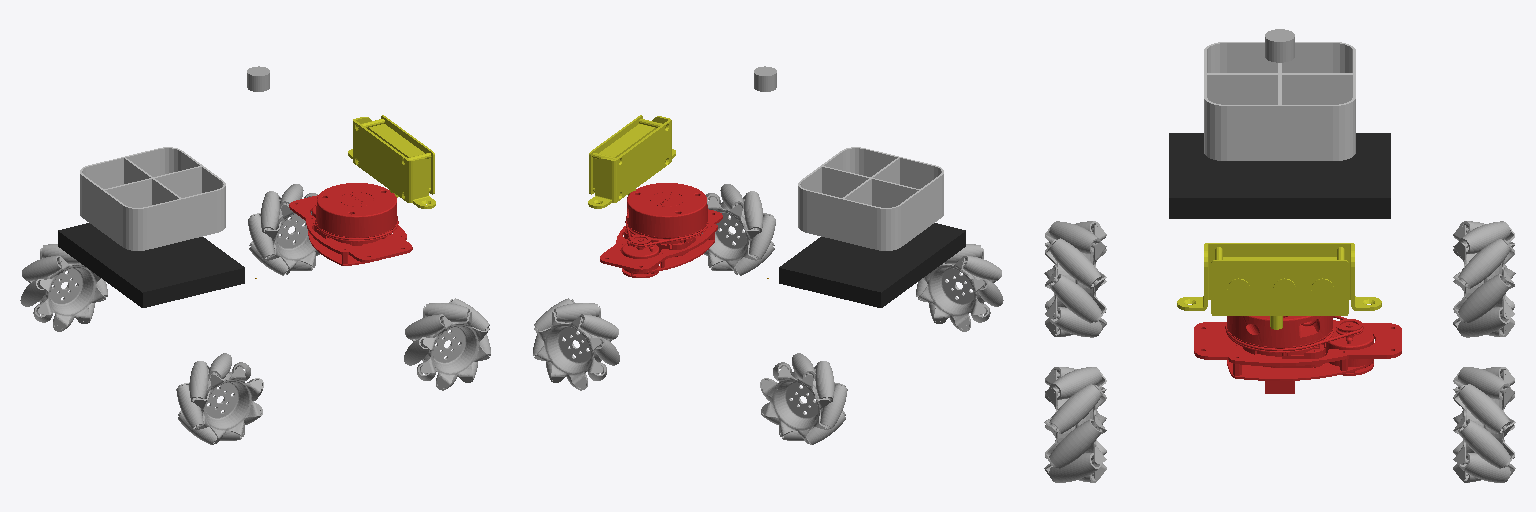
--- Facts derived from the render (not from the file) ---
Views: 3 orthographic renders of the robot side by side, from view 1: azimuth 30°, elevation 25°; view 2: azimuth 150°, elevation 25°; view 3: azimuth 270°, elevation 25°.
Robot: oryxbot_base — 48 links, 47 joints (5 revolute, 42 fixed); root link base_footprint; default pose: all joints at 0.
Visible links, largest first — view 1: save_box_Link, control_panel_Link, laser_radar_Link, depth_camera_Link, wheel_2_Link, wheel_3_Link, wheel_4_Link, wheel_1_Link, roller_1_4_Link, roller_4_3_Link, roller_2_3_Link, roller_3_4_Link (+4 smaller); view 2: save_box_Link, control_panel_Link, laser_radar_Link, depth_camera_Link, wheel_1_Link, wheel_4_Link, wheel_3_Link, wheel_2_Link, roller_2_4_Link, roller_3_3_Link, roller_1_3_Link, roller_4_4_Link (+4 smaller); view 3: save_box_Link, control_panel_Link, depth_camera_Link, laser_radar_Link, wheel_1_Link, wheel_2_Link, wheel_3_Link, wheel_4_Link, roller_3_1_Link, roller_4_1_Link, roller_2_1_Link, roller_1_1_Link (+13 smaller).
Link boxes in pixels (x1,y1,x2,y2): save_box_Link: [80, 147, 225, 250]; control_panel_Link: [58, 223, 244, 307]; laser_radar_Link: [289, 183, 412, 265]; depth_camera_Link: [348, 115, 435, 208]; wheel_2_Link: [405, 299, 489, 388]; wheel_3_Link: [178, 365, 262, 443]; wheel_4_Link: [22, 248, 105, 329]; wheel_1_Link: [249, 191, 315, 274]; roller_1_4_Link: [248, 215, 274, 259]; roller_4_3_Link: [22, 256, 61, 280]; roller_2_3_Link: [405, 314, 443, 339]; roller_3_4_Link: [176, 385, 203, 428]; save_box_Link: [798, 147, 943, 250]; control_panel_Link: [779, 223, 965, 307]; laser_radar_Link: [600, 183, 722, 277]; depth_camera_Link: [588, 115, 675, 208]; wheel_1_Link: [534, 299, 618, 388]; wheel_4_Link: [761, 365, 845, 443]; wheel_3_Link: [918, 248, 1001, 329]; wheel_2_Link: [702, 191, 774, 274]; roller_2_4_Link: [749, 215, 775, 259]; roller_3_3_Link: [962, 256, 1001, 280]; roller_1_3_Link: [580, 314, 618, 339]; roller_4_4_Link: [820, 385, 847, 428]; save_box_Link: [1204, 42, 1355, 160]; control_panel_Link: [1169, 133, 1390, 218]; depth_camera_Link: [1177, 243, 1381, 329]; laser_radar_Link: [1194, 316, 1401, 393]; wheel_1_Link: [1453, 370, 1515, 479]; wheel_2_Link: [1044, 370, 1106, 479]; wheel_3_Link: [1044, 224, 1106, 334]; wheel_4_Link: [1453, 224, 1515, 334]; roller_3_1_Link: [1049, 238, 1101, 288]; roller_4_1_Link: [1458, 238, 1510, 288]; roller_2_1_Link: [1049, 384, 1101, 433]; roller_1_1_Link: [1458, 384, 1510, 433].
Size in the robot's own frame: 0.3075 by 0.3088 by 0.2683 metres.
Meshes: 46 distinct files referenced, 40 mesh visuals loaded (40 binary STL); not drawn: 6 (reference not matched to a file when rendering).

URDF robot description (oryxbot_base):
<?xml version="1.0"?>
<robot xmlns:sensor="http://playerstage.sourceforge.net/gazebo/xmlschema/#sensor" xmlns:controller="http://playerstage.sourceforge.net/gazebo/xmlschema/#controller" xmlns:interface="http://playerstage.sourceforge.net/gazebo/xmlschema/#interface" xmlns:xacro="http://ros.org/wiki/xacro" name="oryxbot_base">
  <link name="base_footprint">
    <visual>
      <geometry>
        <box size="0.001 0.001 0.001"/>
      </geometry>
      <origin rpy="0 0 0" xyz="0 0 0.1"/>
    </visual>
    <inertial>
      <mass value="0.0001"/>
      <inertia ixx="1.0E-10" ixy="0.0" ixz="0.0" iyy="1.0E-10" iyz="0.0" izz="1.0E-10"/>
    </inertial>
  </link>
  <joint name="base_footprint_joint" type="fixed">
    <origin xyz="0 0 0.1"/>
    <parent link="base_footprint"/>
    <child link="base_link"/>
  </joint>
  <link name="base_link">
    <inertial>
      <origin xyz="-0.00764631169340118 -0.00117969395064395 -0.00183050219448137" rpy="0 0 0"/>
      <mass value="2.02553831087985"/>
      <inertia ixx="0.0136360660737575" ixy="-6.20950267617477E-05" ixz="0.000357631312376283" iyy="0.0207282662502369" iyz="0.000100277729999663" izz="0.0259054283159533"/>
    </inertial>
    <visual>
      <origin xyz="0 0 0" rpy="0 0 0"/>
      <geometry>
        <mesh filename="package://oryxbot_description/meshes/base/base_link.STL"/>
      </geometry>
      <material name="">
        <color rgba="0.2 0.2 0.2 1"/>
      </material>
    </visual>
    <collision>
      <origin xyz="0 0 0" rpy="0 0 0"/>
      <geometry>
        <mesh filename="package://oryxbot_description/meshes/base/base_link.STL"/>
      </geometry>
    </collision>
  </link>
  <link name="save_box_Link">
    <inertial>
      <origin xyz="-4.59354776438659E-15 9.15688820527724E-17 0.0147062883016232" rpy="0 0 0"/>
      <mass value="0.0971430373914802"/>
      <inertia ixx="0.000117289160482014" ixy="9.67216938625837E-20" ixz="-3.79126869778932E-18" iyy="0.000117289160482014" iyz="1.90433104035194E-20" izz="0.000201773217764548"/>
    </inertial>
    <visual>
      <origin xyz="0 0 0" rpy="0 0 0"/>
      <geometry>
        <mesh filename="package://oryxbot_description/meshes/base/save_box_Link.STL"/>
      </geometry>
      <material name="">
        <color rgba="0.8 0.8 0.8 1"/>
      </material>
    </visual>
    <collision>
      <origin xyz="0 0 0" rpy="0 0 0"/>
      <geometry>
        <mesh filename="package://oryxbot_description/meshes/base/save_box_Link.STL"/>
      </geometry>
    </collision>
  </link>
  <joint name="save_box_Joint" type="fixed">
    <origin xyz="-0.102321969925639 0 0.07925" rpy="-6.12303176911189E-17 0 0"/>
    <parent link="base_link"/>
    <child link="save_box_Link"/>
    <axis xyz="0 0 0"/>
  </joint>
  <link name="depth_camera_Link">
    <inertial>
      <origin xyz="-0.000338923518511336 0.00013633625480072 0.0130642403603556" rpy="0 0 0"/>
      <mass value="0.0429564094829856"/>
      <inertia ixx="4.42733827556727E-05" ixy="5.1756273672768E-08" ixz="-1.07581469445985E-07" iyy="9.87442464200886E-06" iyz="1.36662846267863E-09" izz="4.20179141036499E-05"/>
    </inertial>
    <visual>
      <origin xyz="0 0 0" rpy="0 0 0"/>
      <geometry>
        <mesh filename="package://oryxbot_description/meshes/base/depth_camera_Link.STL"/>
      </geometry>
      <material name="">
        <color rgba="0.8 0.8 0.2 1"/>
      </material>
    </visual>
    <collision>
      <origin xyz="0 0 0" rpy="0 0 0"/>
      <geometry>
        <mesh filename="package://oryxbot_description/meshes/base/depth_camera_Link.STL"/>
      </geometry>
    </collision>
  </link>
  <joint name="depth_camera_Joint" type="fixed">
    <origin xyz="0.137971242636892 0 0.0679000000000474" rpy="-6.12303176911189E-17 0 0"/>
    <parent link="base_link"/>
    <child link="depth_camera_Link"/>
    <axis xyz="0 0 0"/>
  </joint>
  <link name="laser_radar_Link">
    <inertial>
      <origin xyz="0.00129965485264849 0.0140721322674916 -0.00450819311932744" rpy="0 0 0"/>
      <mass value="0.0623789276094434"/>
      <inertia ixx="6.94639653669307E-05" ixy="8.6185609328867E-07" ixz="-1.9717605542125E-07" iyy="2.93424892981532E-05" iyz="6.39495406735705E-06" izz="7.78608897582073E-05"/>
    </inertial>
    <visual>
      <origin xyz="0 0 0" rpy="0 0 0"/>
      <geometry>
        <mesh filename="package://oryxbot_description/meshes/base/laser_radar_Link.STL"/>
      </geometry>
      <material name="">
        <color rgba="0.8 0.2 0.2 1"/>
      </material>
    </visual>
    <collision>
      <origin xyz="0 0 0" rpy="0 0 0"/>
      <geometry>
        <mesh filename="package://oryxbot_description/meshes/base/laser_radar_Link.STL"/>
      </geometry>
    </collision>
  </link>
  <joint name="laser_radar_Joint" type="fixed">
    <origin xyz="0.10012092451104 0 0.02725" rpy="-6.12303176911189E-17 0 0"/>
    <parent link="base_link"/>
    <child link="laser_radar_Link"/>
    <axis xyz="0 0 0"/>
  </joint>
  <link name="control_panel_Link">
    <inertial>
      <origin xyz="-1.38777878078145E-17 2.03505737914499E-17 0.0075" rpy="0 0 0"/>
      <mass value="0.22338"/>
      <inertia ixx="0.000400985715" ixy="-6.3306622132724E-20" ixz="-2.25875452601147E-21" iyy="0.000197858835" iyz="-8.99944309783044E-21" izz="0.0005904678"/>
    </inertial>
    <visual>
      <origin xyz="0 0 0" rpy="0 0 0"/>
      <geometry>
        <mesh filename="package://oryxbot_description/meshes/base/control_panel_Link.STL"/>
      </geometry>
      <material name="">
        <color rgba="0.2 0.2 0.2 1"/>
      </material>
    </visual>
    <collision>
      <origin xyz="0 0 0" rpy="0 0 0"/>
      <geometry>
        <mesh filename="package://oryxbot_description/meshes/base/control_panel_Link.STL"/>
      </geometry>
    </collision>
  </link>
  <joint name="control_panel_Joint" type="fixed">
    <origin xyz="-0.103733742636892 0 0.03725" rpy="-6.12303176911189E-17 0 0"/>
    <parent link="base_link"/>
    <child link="control_panel_Link"/>
    <axis xyz="0 0 0"/>
  </joint>
  <link name="wheel_1_Link">
    <inertial>
      <origin xyz="-3.49119389092545E-08 4.8702717014848E-07 -8.62702332904419E-08" rpy="0 0 0"/>
      <mass value="0.0115715789339179"/>
      <inertia ixx="4.48576917597745E-06" ixy="-1.24304480702996E-11" ixz="2.9583635995248E-11" iyy="6.65994842603994E-06" iyz="-5.89599770954395E-11" izz="4.48579119615739E-06"/>
    </inertial>
    <visual>
      <origin xyz="0 0 0" rpy="0 0 0"/>
      <geometry>
        <mesh filename="package://oryxbot_description/meshes/base/wheel_1_Link.STL"/>
      </geometry>
      <material name="">
        <color rgba="0.7 0.7 0.7 1"/>
      </material>
    </visual>
    <collision>
      <origin xyz="0 0 0" rpy="0 0 0"/>
      <geometry>
        <mesh filename="package://oryxbot_description/meshes/base/wheel_1_Link.STL"/>
      </geometry>
    </collision>
  </link>
  <joint name="wheel_1_Joint" type="fixed">
    <origin xyz="0.112733742636897 0.134000000000001 -0.0342499999999998" rpy="-6.12303176911189E-17 0 0"/>
    <parent link="base_link"/>
    <child link="wheel_1_Link"/>
    <axis xyz="0 0 0"/>
  </joint>
  <link name="roller_1_1_Link">
    <inertial>
      <origin xyz="-6.93889390390723E-17 0.000999807094442251 4.16333634234434E-17" rpy="0 0 0"/>
      <mass value="0.0041465555976513"/>
      <inertia ixx="4.31863836293642E-07" ixy="-2.50139417236036E-21" ixz="-4.80667813501109E-12" iyy="1.54352178276911E-07" iyz="2.47492439275866E-21" izz="4.31782290635005E-07"/>
    </inertial>
    <visual>
      <origin xyz="0 0 0" rpy="0 0 0"/>
      <geometry>
        <mesh filename="package://oryxbot_description/meshes/base/roller_1_1_Link.STL"/>
      </geometry>
      <material name="">
        <color rgba="0.7 0.7 0.7 1"/>
      </material>
    </visual>
  </link>
  <joint name="roller_1_1_Joint" type="fixed">
    <origin xyz="0.0207132034355986 -0.000707106781189015 0.0217132034356015" rpy="-0.529902789748729 -0.146975190663391 -0.529902789748729"/>
    <parent link="wheel_1_Link"/>
    <child link="roller_1_1_Link"/>
    <axis xyz="0 0 0"/>
  </joint>
  <link name="roller_1_2_Link">
    <inertial>
      <origin xyz="-1.38777878078145E-17 0.000999807094442251 -6.93889390390723E-18" rpy="0 0 0"/>
      <mass value="0.00414655559765128"/>
      <inertia ixx="4.31863836293638E-07" ixy="-1.2573145310806E-22" ixz="-4.80667813518606E-12" iyy="1.54352178276911E-07" iyz="3.46090947854882E-22" izz="4.31782290635005E-07"/>
    </inertial>
    <visual>
      <origin xyz="0 0 0" rpy="0 0 0"/>
      <geometry>
        <mesh filename="package://oryxbot_description/meshes/base/roller_1_2_Link.STL"/>
      </geometry>
      <material name="">
        <color rgba="0.7 0.7 0.7 1"/>
      </material>
    </visual>
  </link>
  <joint name="roller_1_2_Joint" type="fixed">
    <origin xyz="-0.000707106781188779 -0.000707106781188793 0.03" rpy="2.60208521396521E-16 0 -0.785398163397448"/>
    <parent link="wheel_1_Link"/>
    <child link="roller_1_2_Link"/>
    <axis xyz="0 0 0"/>
  </joint>
  <link name="roller_1_3_Link">
    <inertial>
      <origin xyz="-1.38777878078145E-17 0.000999807094442279 1.38777878078145E-17" rpy="0 0 0"/>
      <mass value="0.00414655559765127"/>
      <inertia ixx="4.31863836293635E-07" ixy="2.87858853168454E-22" ixz="-4.80667813510373E-12" iyy="1.54352178276911E-07" iyz="3.20946077670575E-22" izz="4.31782290635002E-07"/>
    </inertial>
    <visual>
      <origin xyz="0 0 0" rpy="0 0 0"/>
      <geometry>
        <mesh filename="package://oryxbot_description/meshes/base/roller_1_3_Link.STL"/>
      </geometry>
      <material name="">
        <color rgba="0.7 0.7 0.7 1"/>
      </material>
    </visual>
  </link>
  <joint name="roller_1_3_Joint" type="fixed">
    <origin xyz="-0.0217132034356014 -0.000707106781189043 0.0207132034355986" rpy="0.52990278974873 0.146975190663391 -0.529902789748729"/>
    <parent link="wheel_1_Link"/>
    <child link="roller_1_3_Link"/>
    <axis xyz="0 0 0"/>
  </joint>
  <link name="roller_1_4_Link">
    <inertial>
      <origin xyz="1.38777878078145E-17 0.000999807094442279 0" rpy="0 0 0"/>
      <mass value="0.00414655559765129"/>
      <inertia ixx="4.31863836293638E-07" ixy="1.11217018297169E-22" ixz="-4.80667813522289E-12" iyy="1.54352178276911E-07" iyz="3.30872245021211E-22" izz="4.31782290635005E-07"/>
    </inertial>
    <visual>
      <origin xyz="0 0 0" rpy="0 0 0"/>
      <geometry>
        <mesh filename="package://oryxbot_description/meshes/base/roller_1_4_Link.STL"/>
      </geometry>
      <material name=""><color rgba="0.7 0.7 0.7 1"/>&gt;
      </material>
    </visual>
  </link>
  <joint name="roller_1_4_Joint" type="fixed">
    <origin xyz="-0.03 -0.000707106781188765 -0.000707106781188793" rpy="0.785398163397448 0 0"/>
    <parent link="wheel_1_Link"/>
    <child link="roller_1_4_Link"/>
    <axis xyz="0 0 0"/>
  </joint>
  <link name="roller_1_5_Link">
    <inertial>
      <origin xyz="0 0.000999807094442251 -2.77555756156289E-17" rpy="0 0 0"/>
      <mass value="0.0041465555976513"/>
      <inertia ixx="4.3186383629364E-07" ixy="-2.9778502051909E-23" ixz="-4.80667813530226E-12" iyy="1.54352178276911E-07" iyz="7.51079996198149E-22" izz="4.31782290635006E-07"/>
    </inertial>
    <visual>
      <origin xyz="0 0 0" rpy="0 0 0"/>
      <geometry>
        <mesh filename="package://oryxbot_description/meshes/base/roller_1_5_Link.STL"/>
      </geometry>
      <material name="">
        <color rgba="0.7 0.7 0.7 1"/>
      </material>
    </visual>
  </link>
  <joint name="roller_1_5_Joint" type="fixed">
    <origin xyz="-0.0207132034355986 -0.000707106781189043 -0.0217132034356015" rpy="0.52990278974873 -0.146975190663391 0.529902789748729"/>
    <parent link="wheel_1_Link"/>
    <child link="roller_1_5_Link"/>
    <axis xyz="0 0 0"/>
  </joint>
  <link name="roller_1_6_Link">
    <inertial>
      <origin xyz="0 0.000999807094442196 1.38777878078145E-17" rpy="0 0 0"/>
      <mass value="0.00414655559765129"/>
      <inertia ixx="4.3186383629364E-07" ixy="-5.4924792673521E-22" ixz="-4.80667813516948E-12" iyy="1.54352178276911E-07" iyz="1.05435639738534E-22" izz="4.31782290635007E-07"/>
    </inertial>
    <visual>
      <origin xyz="0 0 0" rpy="0 0 0"/>
      <geometry>
        <mesh filename="package://oryxbot_description/meshes/base/roller_1_6_Link.STL"/>
      </geometry>
      <material name="">
        <color rgba="0.7 0.7 0.7 1"/>
      </material>
    </visual>
  </link>
  <joint name="roller_1_6_Joint" type="fixed">
    <origin xyz="0.000707106781188793 -0.000707106781188793 -0.03" rpy="0 0 0.785398163397448"/>
    <parent link="wheel_1_Link"/>
    <child link="roller_1_6_Link"/>
    <axis xyz="0 0 0"/>
  </joint>
  <link name="roller_1_7_Link">
    <inertial>
      <origin xyz="0 0.000999807094442209 -1.38777878078145E-17" rpy="0 0 0"/>
      <mass value="0.00414655559765128"/>
      <inertia ixx="4.31863836293635E-07" ixy="3.4410713482206E-22" ixz="-4.80667813504418E-12" iyy="1.54352178276911E-07" iyz="1.19114008207636E-22" izz="4.31782290635002E-07"/>
    </inertial>
    <visual>
      <origin xyz="0 0 0" rpy="0 0 0"/>
      <geometry>
        <mesh filename="package://oryxbot_description/meshes/base/roller_1_7_Link.STL"/>
      </geometry>
      <material name="">
        <color rgba="0.7 0.7 0.7 1"/>
      </material>
    </visual>
  </link>
  <joint name="roller_1_7_Joint" type="fixed">
    <origin xyz="0.0217132034356015 -0.000707106781189043 -0.0207132034355986" rpy="-0.529902789748728 0.14697519066339 0.529902789748728"/>
    <parent link="wheel_1_Link"/>
    <child link="roller_1_7_Link"/>
    <axis xyz="0 0 0"/>
  </joint>
  <link name="roller_1_8_Link">
    <inertial>
      <origin xyz="2.77555756156289E-17 0.000999807094442348 1.38777878078145E-17" rpy="0 0 0"/>
      <mass value="0.00414655559765128"/>
      <inertia ixx="4.31863836293639E-07" ixy="-8.22511969632861E-22" ixz="-4.8066781351909E-12" iyy="1.54352178276911E-07" iyz="-3.04402465419514E-22" izz="4.31782290635006E-07"/>
    </inertial>
    <visual>
      <origin xyz="0 0 0" rpy="0 0 0"/>
      <geometry>
        <mesh filename="package://oryxbot_description/meshes/base/roller_1_8_Link.STL"/>
      </geometry>
      <material name="">
        <color rgba="0.7 0.7 0.7 1"/>
      </material>
    </visual>
  </link>
  <joint name="roller_1_8_Joint" type="fixed">
    <origin xyz="0.03 -0.000707106781188821 0.000707106781188793" rpy="-0.785398163397448 0 0"/>
    <parent link="wheel_1_Link"/>
    <child link="roller_1_8_Link"/>
    <axis xyz="0 0 0"/>
  </joint>
  <link name="wheel_2_Link">
    <inertial>
      <origin xyz="9.94518354099916E-07 -3.47615774470844E-07 4.35441263609004E-07" rpy="0 0 0"/>
      <mass value="0.0115720932718038"/>
      <inertia ixx="4.48594023888562E-06" ixy="-1.27462413936796E-11" ixz="5.95427391893261E-11" iyy="6.66008980600592E-06" iyz="-5.04101581512295E-11" izz="4.48582634155502E-06"/>
    </inertial>
    <visual>
      <origin xyz="0 0 0" rpy="0 0 0"/>
      <geometry>
        <mesh filename="package://oryxbot_description/meshes/base/wheel_2_Link.STL"/>
      </geometry>
      <material name="">
        <color rgba="0.7 0.7 0.7 1"/>
      </material>
    </visual>
    <collision>
      <origin xyz="0 0 0" rpy="0 0 0"/>
      <geometry>
        <mesh filename="package://oryxbot_description/meshes/base/wheel_2_Link.STL"/>
      </geometry>
    </collision>
  </link>
  <joint name="wheel_2_Joint" type="fixed">
    <origin xyz="0.112733742636895 -0.133999999999999 -0.0342499999999961" rpy="-6.12303176911189E-17 0 0"/>
    <parent link="base_link"/>
    <child link="wheel_2_Link"/>
    <axis xyz="0 0 0"/>
  </joint>
  <link name="roller_2_1_Link">
    <inertial>
      <origin xyz="-1.38777878078145E-17 0.000999807094442307 0" rpy="0 0 0"/>
      <mass value="0.00414655559765128"/>
      <inertia ixx="4.31863836293637E-07" ixy="-4.46677530778635E-22" ixz="-4.80667813523608E-12" iyy="1.54352178276911E-07" iyz="-2.9778502051909E-23" izz="4.31782290635004E-07"/>
    </inertial>
    <visual>
      <origin xyz="0 0 0" rpy="0 0 0"/>
      <geometry>
        <mesh filename="package://oryxbot_description/meshes/base/roller_2_1_Link.STL"/>
      </geometry>
      <material name="">
        <color rgba="0.7 0.7 0.7 1"/>
      </material>
    </visual>
  </link>
  <joint name="roller_2_1_Joint" type="fixed">
    <origin xyz="0.0217132034356014 -0.000707106781189015 0.0207132034355986" rpy="0.52990278974873 -0.146975190663391 0.529902789748729"/>
    <parent link="wheel_2_Link"/>
    <child link="roller_2_1_Link"/>
    <axis xyz="0 0 0"/>
  </joint>
  <link name="roller_2_2_Link">
    <inertial>
      <origin xyz="1.38777878078145E-17 0.000999807094442251 -3.03576608295941E-17" rpy="0 0 0"/>
      <mass value="0.00414655559765128"/>
      <inertia ixx="4.31863836293636E-07" ixy="-4.56603698129271E-22" ixz="-4.80667813508966E-12" iyy="1.54352178276911E-07" iyz="-2.56064630237828E-22" izz="4.31782290635003E-07"/>
    </inertial>
    <visual>
      <origin xyz="0 0 0" rpy="0 0 0"/>
      <geometry>
        <mesh filename="package://oryxbot_description/meshes/base/roller_2_2_Link.STL"/>
      </geometry>
      <material name="">
        <color rgba="0.7 0.7 0.7 1"/>
      </material>
    </visual>
  </link>
  <joint name="roller_2_2_Joint" type="fixed">
    <origin xyz="0.000707106781188779 -0.000707106781188738 0.03" rpy="2.60208521396521E-16 0 0.785398163397448"/>
    <parent link="wheel_2_Link"/>
    <child link="roller_2_2_Link"/>
    <axis xyz="0 0 0"/>
  </joint>
  <link name="roller_2_3_Link">
    <inertial>
      <origin xyz="-1.38777878078145E-17 0.000999807094442251 0" rpy="0 0 0"/>
      <mass value="0.00414655559765129"/>
      <inertia ixx="4.31863836293639E-07" ixy="3.30872245021211E-22" ixz="-4.80667813500447E-12" iyy="1.54352178276911E-07" iyz="3.37489689921635E-22" izz="4.31782290635005E-07"/>
    </inertial>
    <visual>
      <origin xyz="0 0 0" rpy="0 0 0"/>
      <geometry>
        <mesh filename="package://oryxbot_description/meshes/base/roller_2_3_Link.STL"/>
      </geometry>
      <material name="">
        <color rgba="0.7 0.7 0.7 1"/>
      </material>
    </visual>
  </link>
  <joint name="roller_2_3_Joint" type="fixed">
    <origin xyz="-0.0207132034355986 -0.00070710678118896 0.0217132034356015" rpy="-0.529902789748729 0.14697519066339 0.529902789748728"/>
    <parent link="wheel_2_Link"/>
    <child link="roller_2_3_Link"/>
    <axis xyz="0 0 0"/>
  </joint>
  <link name="roller_2_4_Link">
    <inertial>
      <origin xyz="0 0.000999807094442223 -1.38777878078145E-17" rpy="0 0 0"/>
      <mass value="0.0041465555976513"/>
      <inertia ixx="4.31863836293639E-07" ixy="-2.11380593321028E-22" ixz="-4.80667813513264E-12" iyy="1.54352178276911E-07" iyz="2.77932685817817E-22" izz="4.31782290635005E-07"/>
    </inertial>
    <visual>
      <origin xyz="0 0 0" rpy="0 0 0"/>
      <geometry>
        <mesh filename="package://oryxbot_description/meshes/base/roller_2_4_Link.STL"/>
      </geometry>
      <material name="">
        <color rgba="0.7 0.7 0.7 1"/>
      </material>
    </visual>
  </link>
  <joint name="roller_2_4_Joint" type="fixed">
    <origin xyz="-0.03 -0.000707106781188821 0.000707106781188793" rpy="-0.785398163397448 0 0"/>
    <parent link="wheel_2_Link"/>
    <child link="roller_2_4_Link"/>
    <axis xyz="0 0 0"/>
  </joint>
  <link name="roller_2_5_Link">
    <inertial>
      <origin xyz="-5.55111512312578E-17 0.000999807094442334 1.38777878078145E-17" rpy="0 0 0"/>
      <mass value="0.00414655559765128"/>
      <inertia ixx="4.31863836293638E-07" ixy="-9.92616735063633E-24" ixz="-4.80667813514344E-12" iyy="1.54352178276911E-07" iyz="9.03281228907906E-22" izz="4.31782290635004E-07"/>
    </inertial>
    <visual>
      <origin xyz="0 0 0" rpy="0 0 0"/>
      <geometry>
        <mesh filename="package://oryxbot_description/meshes/base/roller_2_5_Link.STL"/>
      </geometry>
      <material name="">
        <color rgba="0.7 0.7 0.7 1"/>
      </material>
    </visual>
  </link>
  <joint name="rolle_2r_5_Joint" type="fixed">
    <origin xyz="-0.0217132034356014 -0.000707106781188988 -0.0207132034355986" rpy="-0.52990278974873 -0.146975190663391 -0.529902789748729"/>
    <parent link="wheel_2_Link"/>
    <child link="roller_2_5_Link"/>
    <axis xyz="0 0 0"/>
  </joint>
  <link name="roller_2_6_Link">
    <inertial>
      <origin xyz="2.77555756156289E-17 0.000999807094442348 -1.38777878078145E-17" rpy="0 0 0"/>
      <mass value="0.00414655559765126"/>
      <inertia ixx="4.31863836293635E-07" ixy="4.36751363427999E-22" ixz="-4.80667813509319E-12" iyy="1.5435217827691E-07" iyz="2.36116847928058E-22" izz="4.31782290635003E-07"/>
    </inertial>
    <visual>
      <origin xyz="0 0 0" rpy="0 0 0"/>
      <geometry>
        <mesh filename="package://oryxbot_description/meshes/base/roller_2_6_Link.STL"/>
      </geometry>
      <material name="">
        <color rgba="0.7 0.7 0.7 1"/>
      </material>
    </visual>
  </link>
  <joint name="roller_2_6_Joint" type="fixed">
    <origin xyz="-0.000707106781188765 -0.000707106781188738 -0.03" rpy="0 0 -0.785398163397448"/>
    <parent link="wheel_2_Link"/>
    <child link="roller_2_6_Link"/>
    <axis xyz="0 0 0"/>
  </joint>
  <link name="roller_2_7_Link">
    <inertial>
      <origin xyz="-2.77555756156289E-17 0.000999807094442307 -2.77555756156289E-17" rpy="0 0 0"/>
      <mass value="0.00414655559765127"/>
      <inertia ixx="4.31863836293635E-07" ixy="-3.01093742969302E-22" ixz="-4.80667813497139E-12" iyy="1.54352178276911E-07" iyz="-4.30133918527574E-22" izz="4.31782290635001E-07"/>
    </inertial>
    <visual>
      <origin xyz="0 0 0" rpy="0 0 0"/>
      <geometry>
        <mesh filename="package://oryxbot_description/meshes/base/roller_2_7_Link.STL"/>
      </geometry>
      <material name="">
        <color rgba="0.7 0.7 0.7 1"/>
      </material>
    </visual>
  </link>
  <joint name="roller_2_7_Joint" type="fixed">
    <origin xyz="0.0207132034355986 -0.000707106781189015 -0.0217132034356015" rpy="0.52990278974873 0.146975190663391 -0.529902789748729"/>
    <parent link="wheel_2_Link"/>
    <child link="roller_2_7_Link"/>
    <axis xyz="0 0 0"/>
  </joint>
  <link name="roller_2_8_Link">
    <inertial>
      <origin xyz="2.77555756156289E-17 0.000999807094442279 -2.77555756156289E-17" rpy="0 0 0"/>
      <mass value="0.00414655559765126"/>
      <inertia ixx="4.31863836293635E-07" ixy="5.53160878773498E-23" ixz="-4.80667813492758E-12" iyy="1.5435217827691E-07" iyz="-5.9557004103818E-22" izz="4.31782290635001E-07"/>
    </inertial>
    <visual>
      <origin xyz="0 0 0" rpy="0 0 0"/>
      <geometry>
        <mesh filename="package://oryxbot_description/meshes/base/roller_2_8_Link.STL"/>
      </geometry>
      <material name="">
        <color rgba="0.7 0.7 0.7 1"/>
      </material>
    </visual>
  </link>
  <joint name="roller_2_8_Joint" type="fixed">
    <origin xyz="0.03 -0.000707106781188765 -0.000707106781188793" rpy="0.785398163397448 0 0"/>
    <parent link="wheel_2_Link"/>
    <child link="roller_2_8_Link"/>
    <axis xyz="0 0 0"/>
  </joint>
  <link name="wheel_3_Link">
    <inertial>
      <origin xyz="-3.50725403996943E-08 4.87027175366528E-07 -8.61096328685917E-08" rpy="0 0 0"/>
      <mass value="0.0115715788043825"/>
      <inertia ixx="4.48576910692246E-06" ixy="-1.24408844764669E-11" ixz="2.95581559339796E-11" iyy="6.65994836338677E-06" iyz="-5.89704116223101E-11" izz="4.48579112710188E-06"/>
    </inertial>
    <visual>
      <origin xyz="0 0 0" rpy="0 0 0"/>
      <geometry>
        <mesh filename="package://oryxbot_description/meshes/base/wheel_3_Link.STL"/>
      </geometry>
      <material name="">
        <color rgba="0.7 0.7 0.7 1"/>
      </material>
    </visual>
    <collision>
      <origin xyz="0 0 0" rpy="0 0 0"/>
      <geometry>
        <mesh filename="package://oryxbot_description/meshes/base/wheel_3_Link.STL"/>
      </geometry>
    </collision>
  </link>
  <joint name="wheel_3_joint" type="fixed">
    <origin xyz="-0.112733742636892 -0.134 -0.0342499999999999" rpy="-6.12303176911189E-17 0 0"/>
    <parent link="base_link"/>
    <child link="wheel_3_Link"/>
    <axis xyz="0 0 0"/>
  </joint>
  <link name="roller_3_1_Link">
    <inertial>
      <origin xyz="-5.55111512312578E-17 0.000999807094442307 5.55111512312578E-17" rpy="0 0 0"/>
      <mass value="0.00414655559765128"/>
      <inertia ixx="4.31863836293639E-07" ixy="-1.43267682094184E-21" ixz="-4.80667813487874E-12" iyy="1.54352178276911E-07" iyz="2.22346148654254E-21" izz="4.31782290635002E-07"/>
    </inertial>
    <visual>
      <origin xyz="0 0 0" rpy="0 0 0"/>
      <geometry>
        <mesh filename="package://oryxbot_description/meshes/base/roller_3_1_Link.STL"/>
      </geometry>
      <material name="">
        <color rgba="0.7 0.7 0.7 1"/>
      </material>
    </visual>
  </link>
  <joint name="roller_3_1_Joint" type="fixed">
    <origin xyz="0.0207132034355986 -0.000707106781189043 0.0217132034356015" rpy="-0.529902789748729 -0.146975190663392 -0.52990278974873"/>
    <parent link="wheel_3_Link"/>
    <child link="roller_3_1_Link"/>
    <axis xyz="0 0 0"/>
  </joint>
  <link name="roller_3_2_Link">
    <inertial>
      <origin xyz="0 0.000999807094442307 1.04083408558608E-17" rpy="0 0 0"/>
      <mass value="0.00414655559765128"/>
      <inertia ixx="4.31863836293635E-07" ixy="3.97046694025453E-23" ixz="-4.80667813502386E-12" iyy="1.54352178276911E-07" iyz="7.50061846387807E-22" izz="4.31782290635002E-07"/>
    </inertial>
    <visual>
      <origin xyz="0 0 0" rpy="0 0 0"/>
      <geometry>
        <mesh filename="package://oryxbot_description/meshes/base/roller_3_2_Link.STL"/>
      </geometry>
      <material name="">
        <color rgba="0.7 0.7 0.7 1"/>
      </material>
    </visual>
  </link>
  <joint name="roller_3_2_Joint" type="fixed">
    <origin xyz="-0.000707106781188752 -0.000707106781188793 0.03" rpy="2.60208521396521E-16 0 -0.785398163397448"/>
    <parent link="wheel_3_Link"/>
    <child link="roller_3_2_Link"/>
    <axis xyz="0 0 0"/>
  </joint>
  <link name="roller_3_3_Link">
    <inertial>
      <origin xyz="-1.38777878078145E-17 0.000999807094442307 2.77555756156289E-17" rpy="0 0 0"/>
      <mass value="0.00414655559765129"/>
      <inertia ixx="4.31863836293638E-07" ixy="-1.15805285757424E-22" ixz="-4.80667813526917E-12" iyy="1.54352178276911E-07" iyz="3.01093742969302E-22" izz="4.31782290635004E-07"/>
    </inertial>
    <visual>
      <origin xyz="0 0 0" rpy="0 0 0"/>
      <geometry>
        <mesh filename="package://oryxbot_description/meshes/base/roller_3_3_Link.STL"/>
      </geometry>
      <material name="">
        <color rgba="0.7 0.7 0.7 1"/>
      </material>
    </visual>
  </link>
  <joint name="roller_3_3_Joint" type="fixed">
    <origin xyz="-0.0217132034356014 -0.000707106781189015 0.0207132034355986" rpy="0.52990278974873 0.146975190663391 -0.529902789748729"/>
    <parent link="wheel_3_Link"/>
    <child link="roller_3_3_Link"/>
    <axis xyz="0 0 0"/>
  </joint>
  <link name="roller_3_4_Link">
    <inertial>
      <origin xyz="-5.55111512312578E-17 0.000999807094442307 -1.38777878078145E-17" rpy="0 0 0"/>
      <mass value="0.00414655559765126"/>
      <inertia ixx="4.31863836293633E-07" ixy="-9.24894957481905E-22" ixz="-4.8066781350104E-12" iyy="1.5435217827691E-07" iyz="-5.29395592033938E-23" izz="4.31782290635001E-07"/>
    </inertial>
    <visual>
      <origin xyz="0 0 0" rpy="0 0 0"/>
      <geometry>
        <mesh filename="package://oryxbot_description/meshes/base/roller_3_4_Link.STL"/>
      </geometry>
      <material name="">
        <color rgba="0.7 0.7 0.7 1"/>
      </material>
    </visual>
  </link>
  <joint name="roller_3_4_Joint" type="fixed">
    <origin xyz="-0.03 -0.000707106781188765 -0.000707106781188786" rpy="0.785398163397448 0 0"/>
    <parent link="wheel_3_Link"/>
    <child link="roller_3_4_Link"/>
    <axis xyz="0 0 0"/>
  </joint>
  <link name="roller_3_5_Link">
    <inertial>
      <origin xyz="0 0.000999807094442307 -1.38777878078145E-17" rpy="0 0 0"/>
      <mass value="0.00414655559765126"/>
      <inertia ixx="4.31863836293633E-07" ixy="0" ixz="-4.8066781350905E-12" iyy="1.5435217827691E-07" iyz="-4.66529865479908E-22" izz="4.31782290635E-07"/>
    </inertial>
    <visual>
      <origin xyz="0 0 0" rpy="0 0 0"/>
      <geometry>
        <mesh filename="package://oryxbot_description/meshes/base/roller_3_5_Link.STL"/>
      </geometry>
      <material name="">
        <color rgba="0.7 0.7 0.7 1"/>
      </material>
    </visual>
  </link>
  <joint name="roller_3_5_Joint" type="fixed">
    <origin xyz="-0.0207132034355986 -0.000707106781189071 -0.0217132034356015" rpy="0.52990278974873 -0.146975190663391 0.529902789748729"/>
    <parent link="wheel_3_Link"/>
    <child link="roller_3_5_Link"/>
    <axis xyz="0 0 0"/>
  </joint>
  <link name="roller_3_6_Link">
    <inertial>
      <origin xyz="0 0.000999807094442251 -1.38777878078145E-17" rpy="0 0 0"/>
      <mass value="0.00414655559765125"/>
      <inertia ixx="4.31863836293632E-07" ixy="9.26442286059391E-23" ixz="-4.80667813529233E-12" iyy="1.5435217827691E-07" iyz="4.40853339160952E-24" izz="4.31782290634999E-07"/>
    </inertial>
    <visual>
      <origin xyz="0 0 0" rpy="0 0 0"/>
      <geometry>
        <mesh filename="package://oryxbot_description/meshes/base/roller_3_6_Link.STL"/>
      </geometry>
      <material name="">
        <color rgba="0.7 0.7 0.7 1"/>
      </material>
    </visual>
  </link>
  <joint name="roller_3_6_Joint" type="fixed">
    <origin xyz="0.000707106781188779 -0.000707106781188821 -0.03" rpy="0 0 0.785398163397448"/>
    <parent link="wheel_3_Link"/>
    <child link="roller_3_6_Link"/>
    <axis xyz="0 0 0"/>
  </joint>
  <link name="roller_3_7_Link">
    <inertial>
      <origin xyz="0 0.000999807094442293 -2.77555756156289E-17" rpy="0 0 0"/>
      <mass value="0.00414655559765126"/>
      <inertia ixx="4.31863836293633E-07" ixy="-1.32348898008484E-23" ixz="-4.80667813530226E-12" iyy="1.54352178276911E-07" iyz="-9.92616735063633E-24" izz="4.31782290635E-07"/>
    </inertial>
    <visual>
      <origin xyz="0 0 0" rpy="0 0 0"/>
      <geometry>
        <mesh filename="package://oryxbot_description/meshes/base/roller_3_7_Link.STL"/>
      </geometry>
      <material name="">
        <color rgba="0.7 0.7 0.7 1"/>
      </material>
    </visual>
  </link>
  <joint name="roller_3_7_Joint" type="fixed">
    <origin xyz="0.0217132034356014 -0.000707106781189099 -0.0207132034355986" rpy="-0.529902789748729 0.146975190663391 0.529902789748729"/>
    <parent link="wheel_3_Link"/>
    <child link="roller_3_7_Link"/>
    <axis xyz="0 0 0"/>
  </joint>
  <link name="roller_3_8_Link">
    <inertial>
      <origin xyz="0 0.000999807094442293 -2.77555756156289E-17" rpy="0 0 0"/>
      <mass value="0.00414655559765128"/>
      <inertia ixx="4.31863836293638E-07" ixy="-2.15950685426026E-22" ixz="-4.80667813528115E-12" iyy="1.54352178276911E-07" iyz="-4.63221143029696E-23" izz="4.31782290635004E-07"/>
    </inertial>
    <visual>
      <origin xyz="0 0 0" rpy="0 0 0"/>
      <geometry>
        <mesh filename="package://oryxbot_description/meshes/base/roller_3_8_Link.STL"/>
      </geometry>
      <material name="">
        <color rgba="0.7 0.7 0.7 1"/>
      </material>
    </visual>
  </link>
  <joint name="roller_3_8_Joint" type="fixed">
    <origin xyz="0.03 -0.000707106781188849 0.0007071067811888" rpy="-0.785398163397448 0 0"/>
    <parent link="wheel_3_Link"/>
    <child link="roller_3_8_Link"/>
    <axis xyz="0 0 0"/>
  </joint>
  <link name="wheel_4_Link">
    <inertial>
      <origin xyz="9.94520553007638E-07 -3.47612766071759E-07 4.3543573170074E-07" rpy="0 0 0"/>
      <mass value="0.0115720932681644"/>
      <inertia ixx="4.48594023806637E-06" ixy="-1.27450695041583E-11" ixz="5.95422171159268E-11" iyy="6.66008980442039E-06" iyz="-5.04102490053183E-11" izz="4.4858263393441E-06"/>
    </inertial>
    <visual>
      <origin xyz="0 0 0" rpy="0 0 0"/>
      <geometry>
        <mesh filename="package://oryxbot_description/meshes/base/wheel_4_Link.STL"/>
      </geometry>
      <material name="">
        <color rgba="0.7 0.7 0.7 1"/>
      </material>
    </visual>
    <collision>
      <origin xyz="0 0 0" rpy="0 0 0"/>
      <geometry>
        <mesh filename="package://oryxbot_description/meshes/base/wheel_4_Link.STL"/>
      </geometry>
    </collision>
  </link>
  <joint name="wheel_4_Joint" type="fixed">
    <origin xyz="-0.112733742636892 0.134 -0.03425" rpy="-6.12303176911189E-17 0 0"/>
    <parent link="base_link"/>
    <child link="wheel_4_Link"/>
    <axis xyz="0 0 0"/>
  </joint>
  <link name="roller_4_1_Link">
    <inertial>
      <origin xyz="0 0.000999807094442251 -1.38777878078145E-17" rpy="0 0 0"/>
      <mass value="0.00414655559765127"/>
      <inertia ixx="4.31863836293637E-07" ixy="0" ixz="-4.80667813523608E-12" iyy="1.5435217827691E-07" iyz="9.26442286059391E-23" izz="4.31782290635003E-07"/>
    </inertial>
    <visual>
      <origin xyz="0 0 0" rpy="0 0 0"/>
      <geometry>
        <mesh filename="package://oryxbot_description/meshes/base/roller_4_1_Link.STL"/>
      </geometry>
      <material name="">
        <color rgba="0.7 0.7 0.7 1"/>
      </material>
    </visual>
  </link>
  <joint name="roller_4_1_Joint" type="fixed">
    <origin xyz="0.0217132034356014 -0.000707106781189015 0.0207132034355986" rpy="0.52990278974873 -0.146975190663391 0.529902789748729"/>
    <parent link="wheel_4_Link"/>
    <child link="roller_4_1_Link"/>
    <axis xyz="0 0 0"/>
  </joint>
  <link name="roller_4_2_Link">
    <inertial>
      <origin xyz="1.38777878078145E-17 0.000999807094442307 -4.33680868994202E-18" rpy="0 0 0"/>
      <mass value="0.00414655559765127"/>
      <inertia ixx="4.31863836293636E-07" ixy="-7.27918939046664E-23" ixz="-4.80667813522998E-12" iyy="1.5435217827691E-07" iyz="3.46758589237963E-22" izz="4.31782290635003E-07"/>
    </inertial>
    <visual>
      <origin xyz="0 0 0" rpy="0 0 0"/>
      <geometry>
        <mesh filename="package://oryxbot_description/meshes/base/roller_4_2_Link.STL"/>
      </geometry>
      <material name="">
        <color rgba="0.7 0.7 0.7 1"/>
      </material>
    </visual>
  </link>
  <joint name="roller_4_2_Joint" type="fixed">
    <origin xyz="0.000707106781188779 -0.000707106781188765 0.03" rpy="2.60208521396521E-16 0 0.785398163397448"/>
    <parent link="wheel_4_Link"/>
    <child link="roller_4_2_Link"/>
    <axis xyz="0 0 0"/>
  </joint>
  <link name="roller_4_3_Link">
    <inertial>
      <origin xyz="2.08166817117217E-16 0.00099980709444264 -1.66533453693773E-16" rpy="0 0 0"/>
      <mass value="0.0041465555976511"/>
      <inertia ixx="4.31863836293611E-07" ixy="8.31481951738303E-21" ixz="-4.80667813757866E-12" iyy="1.54352178276906E-07" iyz="-6.11782781044219E-21" izz="4.31782290634976E-07"/>
    </inertial>
    <visual>
      <origin xyz="0 0 0" rpy="0 0 0"/>
      <geometry>
        <mesh filename="package://oryxbot_description/meshes/base/roller_4_3_Link.STL"/>
      </geometry>
      <material name="">
        <color rgba="0.7 0.7 0.7 1"/>
      </material>
    </visual>
  </link>
  <joint name="roller_4_3_Joint" type="fixed">
    <origin xyz="-0.0207132034355986 -0.00070710678118896 0.0217132034356014" rpy="-0.529902789748729 0.14697519066339 0.529902789748728"/>
    <parent link="wheel_4_Link"/>
    <child link="roller_4_3_Link"/>
    <axis xyz="0 0 0"/>
  </joint>
  <link name="roller_4_4_Link">
    <inertial>
      <origin xyz="0 0.00099980709444232 0" rpy="0 0 0"/>
      <mass value="0.00414655559765128"/>
      <inertia ixx="4.31863836293637E-07" ixy="4.95383443897663E-23" ixz="-4.80667813508523E-12" iyy="1.54352178276911E-07" iyz="8.60267837055149E-22" izz="4.31782290635004E-07"/>
    </inertial>
    <visual>
      <origin xyz="0 0 0" rpy="0 0 0"/>
      <geometry>
        <mesh filename="package://oryxbot_description/meshes/base/roller_4_4_Link.STL"/>
      </geometry>
      <material name="">
        <color rgba="0.7 0.7 0.7 1"/>
      </material>
    </visual>
  </link>
  <joint name="roller_4_4_Joint" type="fixed">
    <origin xyz="-0.03 -0.000707106781188765 0.000707106781188793" rpy="-0.785398163397448 0 0"/>
    <parent link="wheel_4_Link"/>
    <child link="roller_4_4_Link"/>
    <axis xyz="0 0 0"/>
  </joint>
  <link name="roller_4_5_Link">
    <inertial>
      <origin xyz="0 0.000999807094442307 0" rpy="0 0 0"/>
      <mass value="0.00414655559765124"/>
      <inertia ixx="4.31863836293631E-07" ixy="1.09187840857E-22" ixz="-4.80667813518314E-12" iyy="1.5435217827691E-07" iyz="-7.2130149414624E-22" izz="4.31782290634998E-07"/>
    </inertial>
    <visual>
      <origin xyz="0 0 0" rpy="0 0 0"/>
      <geometry>
        <mesh filename="package://oryxbot_description/meshes/base/roller_4_5_Link.STL"/>
      </geometry>
      <material name="">
        <color rgba="0.7 0.7 0.7 1"/>
      </material>
    </visual>
  </link>
  <joint name="roller_4_5_Joint" type="fixed">
    <origin xyz="-0.0217132034356014 -0.000707106781189015 -0.0207132034355986" rpy="-0.52990278974873 -0.146975190663391 -0.529902789748729"/>
    <parent link="wheel_4_Link"/>
    <child link="roller_4_5_Link"/>
    <axis xyz="0 0 0"/>
  </joint>
  <link name="roller_4_6_Link">
    <inertial>
      <origin xyz="-2.77555756156289E-17 0.000999807094442334 0" rpy="0 0 0"/>
      <mass value="0.00414655559765127"/>
      <inertia ixx="4.31863836293637E-07" ixy="-4.89690922631392E-22" ixz="-4.80667813524086E-12" iyy="1.5435217827691E-07" iyz="-1.79756282968646E-22" izz="4.31782290635004E-07"/>
    </inertial>
    <visual>
      <origin xyz="0 0 0" rpy="0 0 0"/>
      <geometry>
        <mesh filename="package://oryxbot_description/meshes/base/roller_4_6_Link.STL"/>
      </geometry>
      <material name="">
        <color rgba="0.7 0.7 0.7 1"/>
      </material>
    </visual>
  </link>
  <joint name="roller_4_6_Joint" type="fixed">
    <origin xyz="-0.000707106781188779 -0.000707106781188793 -0.03" rpy="0 0 -0.785398163397448"/>
    <parent link="wheel_4_Link"/>
    <child link="roller_4_6_Link"/>
    <axis xyz="0 0 0"/>
  </joint>
  <link name="roller_4_7_Link">
    <inertial>
      <origin xyz="0 0.000999807094442265 -2.77555756156289E-17" rpy="0 0 0"/>
      <mass value="0.00414655559765126"/>
      <inertia ixx="4.31863836293635E-07" ixy="7.94093388050907E-23" ixz="-4.80667813518976E-12" iyy="1.5435217827691E-07" iyz="2.31610571514848E-23" izz="4.31782290635001E-07"/>
    </inertial>
    <visual>
      <origin xyz="0 0 0" rpy="0 0 0"/>
      <geometry>
        <mesh filename="package://oryxbot_description/meshes/base/roller_4_7_Link.STL"/>
      </geometry>
      <material name="">
        <color rgba="0.7 0.7 0.7 1"/>
      </material>
    </visual>
  </link>
  <joint name="roller_4_7_Joint" type="fixed">
    <origin xyz="0.0207132034355986 -0.000707106781189015 -0.0217132034356014" rpy="0.52990278974873 0.146975190663391 -0.529902789748729"/>
    <parent link="wheel_4_Link"/>
    <child link="roller_4_7_Link"/>
    <axis xyz="0 0 0"/>
  </joint>
  <link name="roller_4_8_Link">
    <inertial>
      <origin xyz="0 0.000999807094442265 1.38777878078145E-17" rpy="0 0 0"/>
      <mass value="0.00414655559765128"/>
      <inertia ixx="4.31863836293638E-07" ixy="-9.13897251964715E-24" ixz="-4.80667813522517E-12" iyy="1.54352178276911E-07" iyz="4.2351647362715E-22" izz="4.31782290635004E-07"/>
    </inertial>
    <visual>
      <origin xyz="0 0 0" rpy="0 0 0"/>
      <geometry>
        <mesh filename="package://oryxbot_description/meshes/base/roller_4_8_Link.STL"/>
      </geometry>
      <material name="">
        <color rgba="0.7 0.7 0.7 1"/>
      </material>
    </visual>
  </link>
  <joint name="roller_4_8_Joint" type="fixed">
    <origin xyz="0.03 -0.000707106781188821 -0.000707106781188849" rpy="0.785398163397448 0 0"/>
    <parent link="wheel_4_Link"/>
    <child link="roller_4_8_Link"/>
    <axis xyz="0 0 0"/>
  </joint>
  <!-- base arm joint -->
  <joint name="base_arm_joint" type="fixed">
    <origin xyz="0.05 0 0.06" rpy="0 0 1.57079632"/>
    <parent link="base_link"/>
    <child link="arm_base_link"/>
    <axis xyz="1 0 0"/>
  </joint>
  <!--add oryxbot_arm on base -->
  <link name="arm_base_link">
    <visual>
      <origin xyz="0 0 0" rpy="0 0 0"/>
      <geometry>
        <mesh filename="package://oryxbot_description/meshes/arm/base_link.STL"/>
      </geometry>
      <material name="White"/>
    </visual>
    <collision>
      <origin xyz="0 0 0" rpy="0 0 0"/>
      <geometry>
        <mesh filename="package://oryxbot_description/meshes/arm/base_link.STL"/>
      </geometry>
    </collision>
  </link>
  <joint name="joint_1" type="revolute">
    <origin xyz="0 0 0.024" rpy="0 0 0"/>
    <parent link="arm_base_link"/>
    <child link="link_1"/>
    <axis xyz="0 0 1"/>
    <limit effort="150.0" lower="-3.14159265" upper="3.14159265" velocity="3.15"/>
  </joint>
  <link name="link_1">
    <visual>
      <origin xyz="0 0 0" rpy="0 0 0"/>
      <geometry>
        <mesh filename="package://oryxbot_description/meshes/arm/link_1.dae"/>
      </geometry>
      <!--material name="White"/-->
    </visual>
    <collision>
      <origin xyz="0 0 0" rpy="0 0 0"/>
      <geometry>
        <mesh filename="package://oryxbot_description/meshes/arm/link_1.STL"/>
      </geometry>
    </collision>
  </link>
  <joint name="joint_2" type="revolute">
    <origin xyz="-0.01175 0 0.114" rpy="1.570796325 0 -1.570796325"/>
    <parent link="link_1"/>
    <child link="link_2"/>
    <axis xyz="0 0 1"/>
    <limit effort="150.0" lower="0" upper="1.570796325" velocity="3.15"/>
  </joint>
  <link name="link_2">
    <visual>
      <origin xyz="0 0 0" rpy="0 0 0"/>
      <geometry>
        <mesh filename="package://oryxbot_description/meshes/arm/link_2.dae"/>
      </geometry>
      <!--material name="Black"/-->
    </visual>
    <collision>
      <origin xyz="0 0 0" rpy="0 0 0"/>
      <geometry>
        <mesh filename="package://oryxbot_description/meshes/arm/link_2.STL"/>
      </geometry>
    </collision>
  </link>
  <joint name="joint_5" type="revolute">
    <origin xyz="0.02699 0.13228 -0.01175" rpy="0 3.14159265 0"/>
    <parent link="link_2"/>
    <child link="link_5"/>
    <axis xyz="0 0 1"/>
    <limit effort="150.0" lower="0" upper="1.570796325" velocity="3.15"/>
  </joint>
  <link name="link_5">
    <visual>
      <origin xyz="0 0 0" rpy="0 0 0"/>
      <geometry>
        <mesh filename="package://oryxbot_description/meshes/arm/link_5.dae"/>
      </geometry>
      <!-- material name="White"/-->
    </visual>
    <collision>
      <origin xyz="0 0 0" rpy="0 0 0"/>
      <geometry>
        <mesh filename="package://oryxbot_description/meshes/arm/link_5.dae"/>
      </geometry>
    </collision>
  </link>
  <joint name="joint_6" type="revolute">
    <origin xyz="0.07431 -0.12684 0.0" rpy="0 3.14159265 0"/>
    <parent link="link_5"/>
    <child link="link_6"/>
    <axis xyz="0 0 1"/>
    <limit effort="150.0" lower="-3.14159265" upper="3.14159265" velocity="3.15"/>
  </joint>
  <link name="link_6">
    <visual>
      <origin xyz="0 0 0" rpy="0 0 0"/>
      <geometry>
        <mesh filename="package://oryxbot_description/meshes/arm/link_6.STL"/>
      </geometry>
      <material name="Grey"/>
    </visual>
    <collision>
      <origin xyz="0 0 0" rpy="0 0 0"/>
      <geometry>
        <mesh filename="package://oryxbot_description/meshes/arm/link_6.STL"/>
      </geometry>
    </collision>
  </link>
  <!-- Grasping frame -->
  <joint name="tool_joint" type="revolute">
    <parent link="link_6"/>
    <child link="tool_link"/>
    <origin xyz="0 0 0" rpy="1.57079632 0 0"/>
    <limit lower="-3.14159" upper="3.14159" effort="0.1" velocity="0.005"/>
    <axis xyz="0 0 1"/>
  </joint>
  <link name="tool_link">
    <visual>
      <origin xyz="0 0 0.015" rpy="0 0 0"/>
      <geometry>
        <cylinder radius="0.01" length="0.015"/>
      </geometry>
    </visual>
    <collision>
      <origin xyz="0 0 0.015" rpy="0 0 0"/>
      <geometry>
        <cylinder radius="0.0175" length="0.015"/>
      </geometry>
    </collision>
  </link>
</robot>
